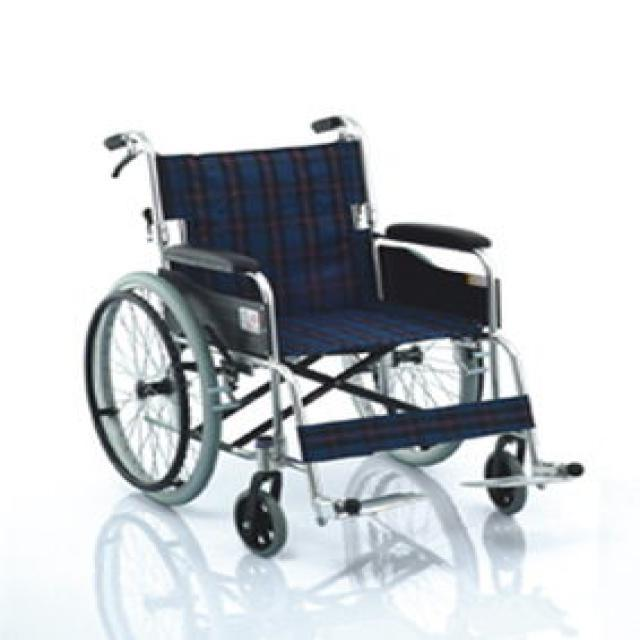wheelchair: (79, 104, 593, 554)
